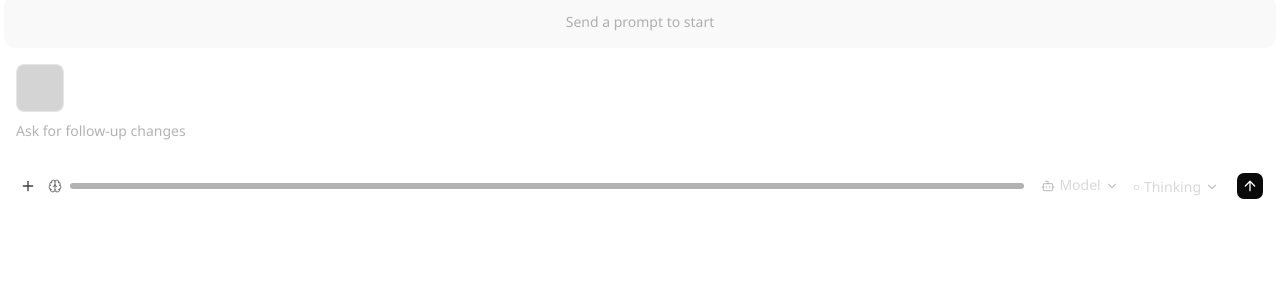
ChatStream › a failed send keeps attachments staged
Click the button named "Send": x=1250, y=186 [1236,172,1264,200]
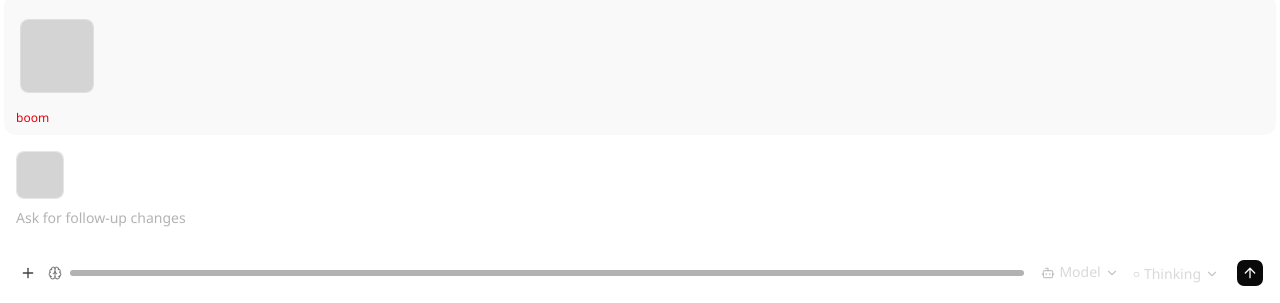
expect the text "boom" is shown: met, box [16,109,49,126]
